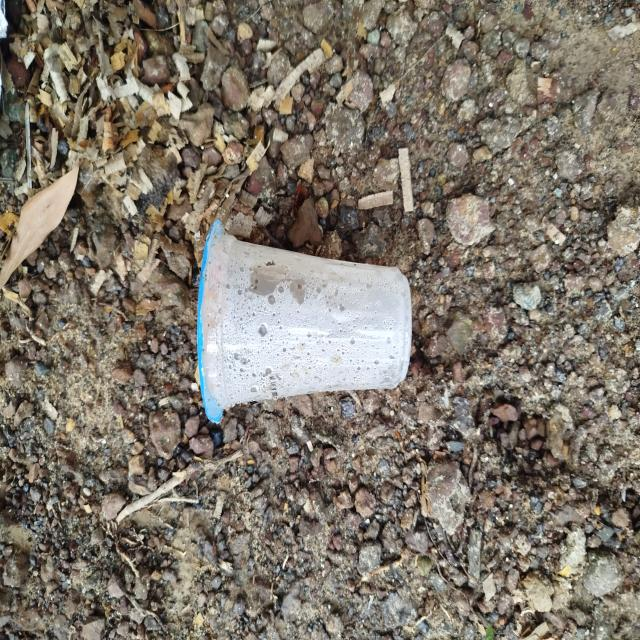plastic: (179, 209, 421, 450)
